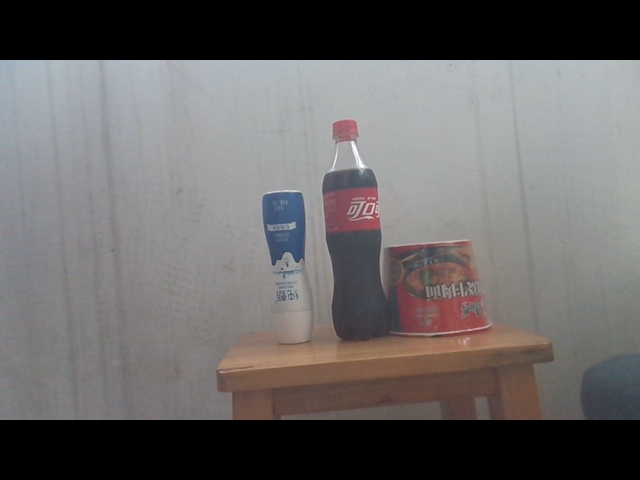cola: (321, 119, 391, 339)
kangshifu: (382, 238, 494, 337)
yogurt: (261, 189, 314, 345)
